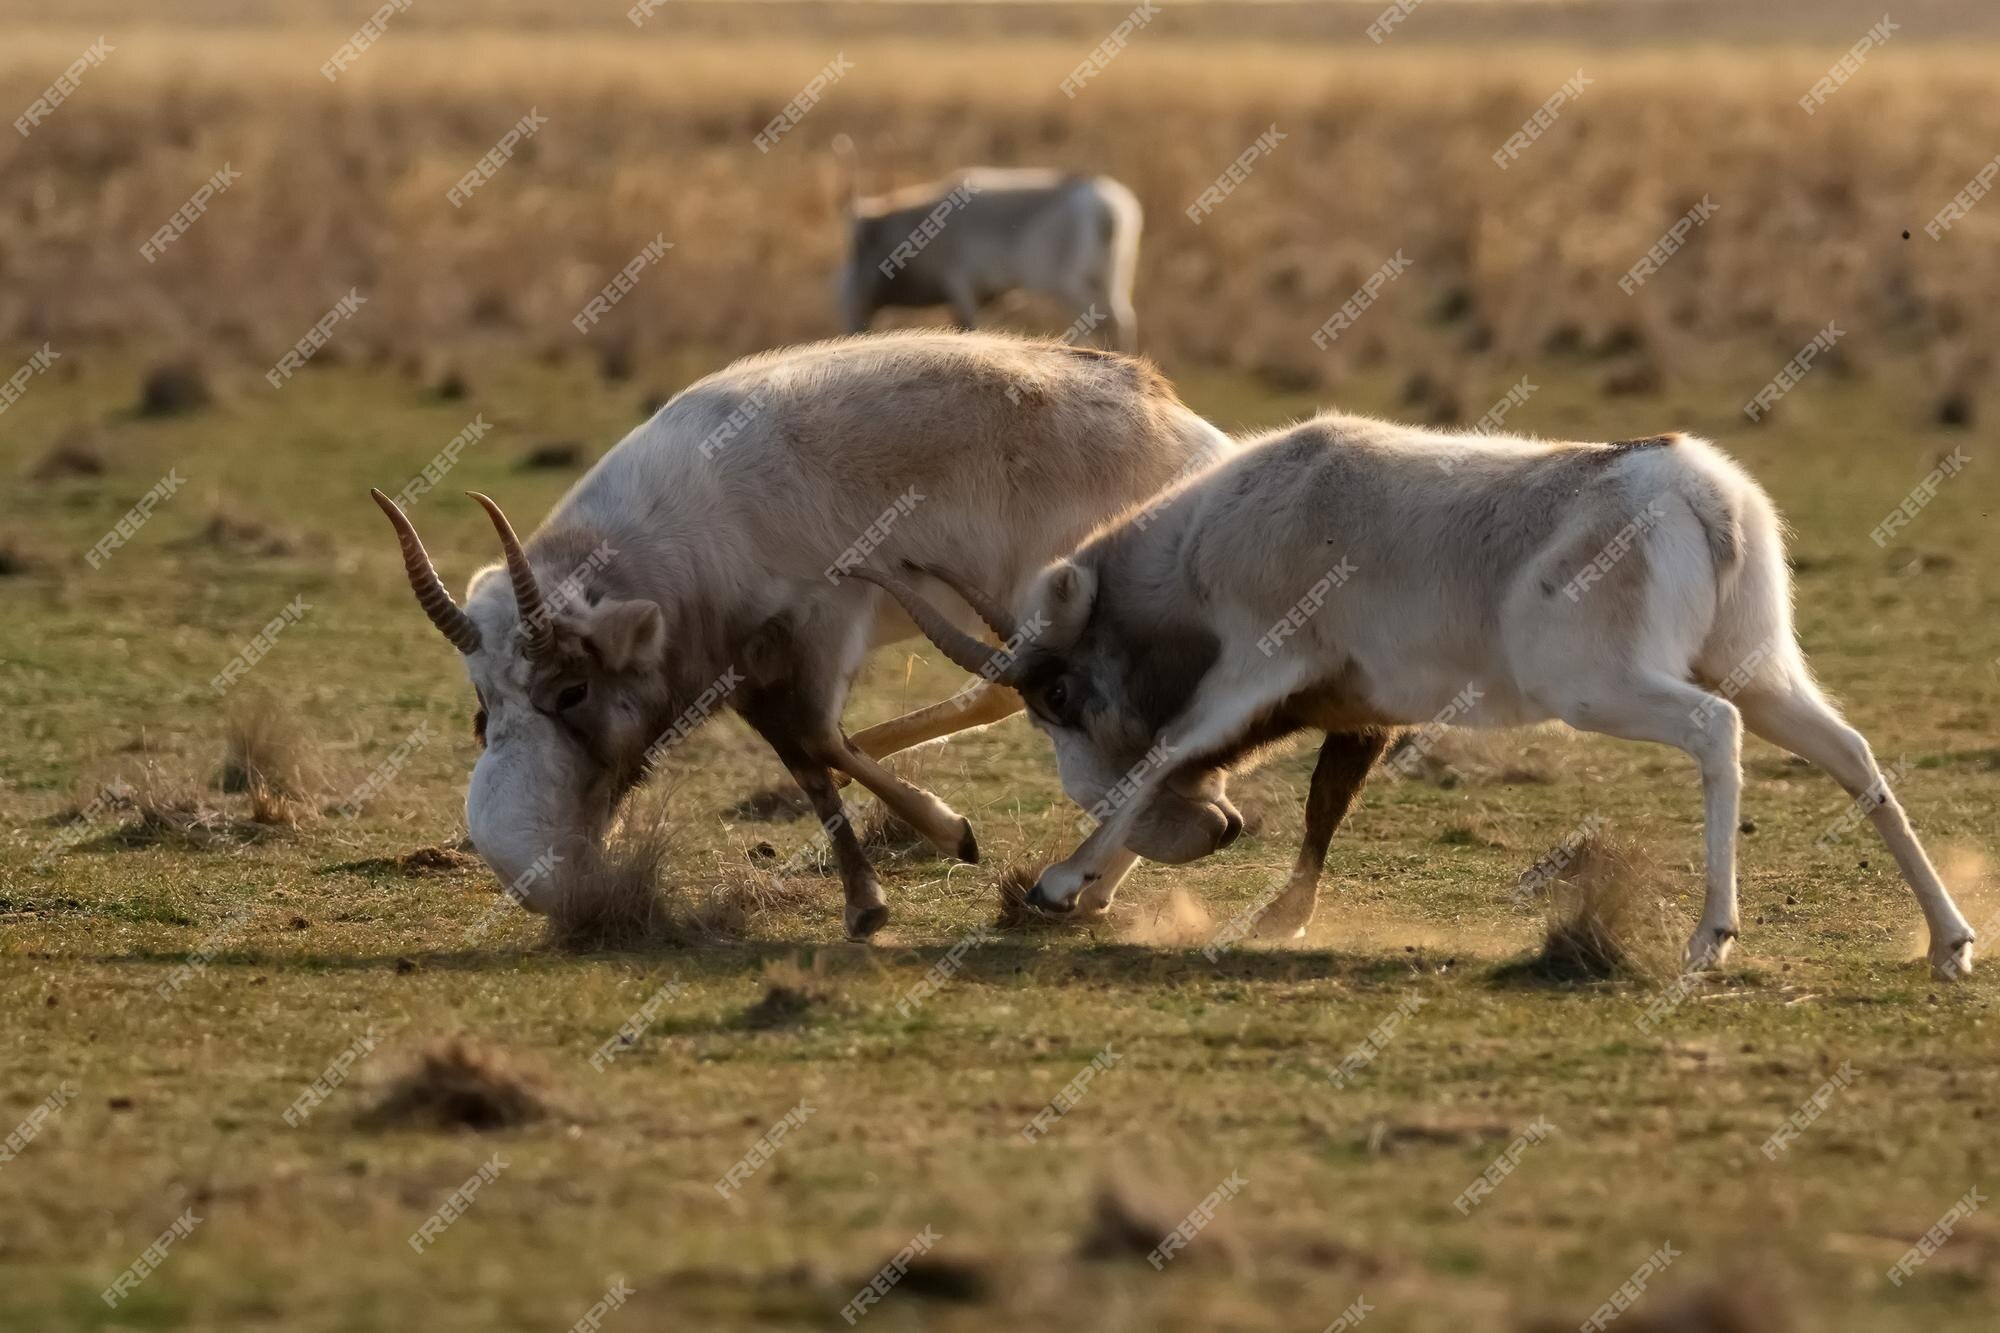saiga: (842, 397, 1987, 1049), (363, 338, 1233, 954)
